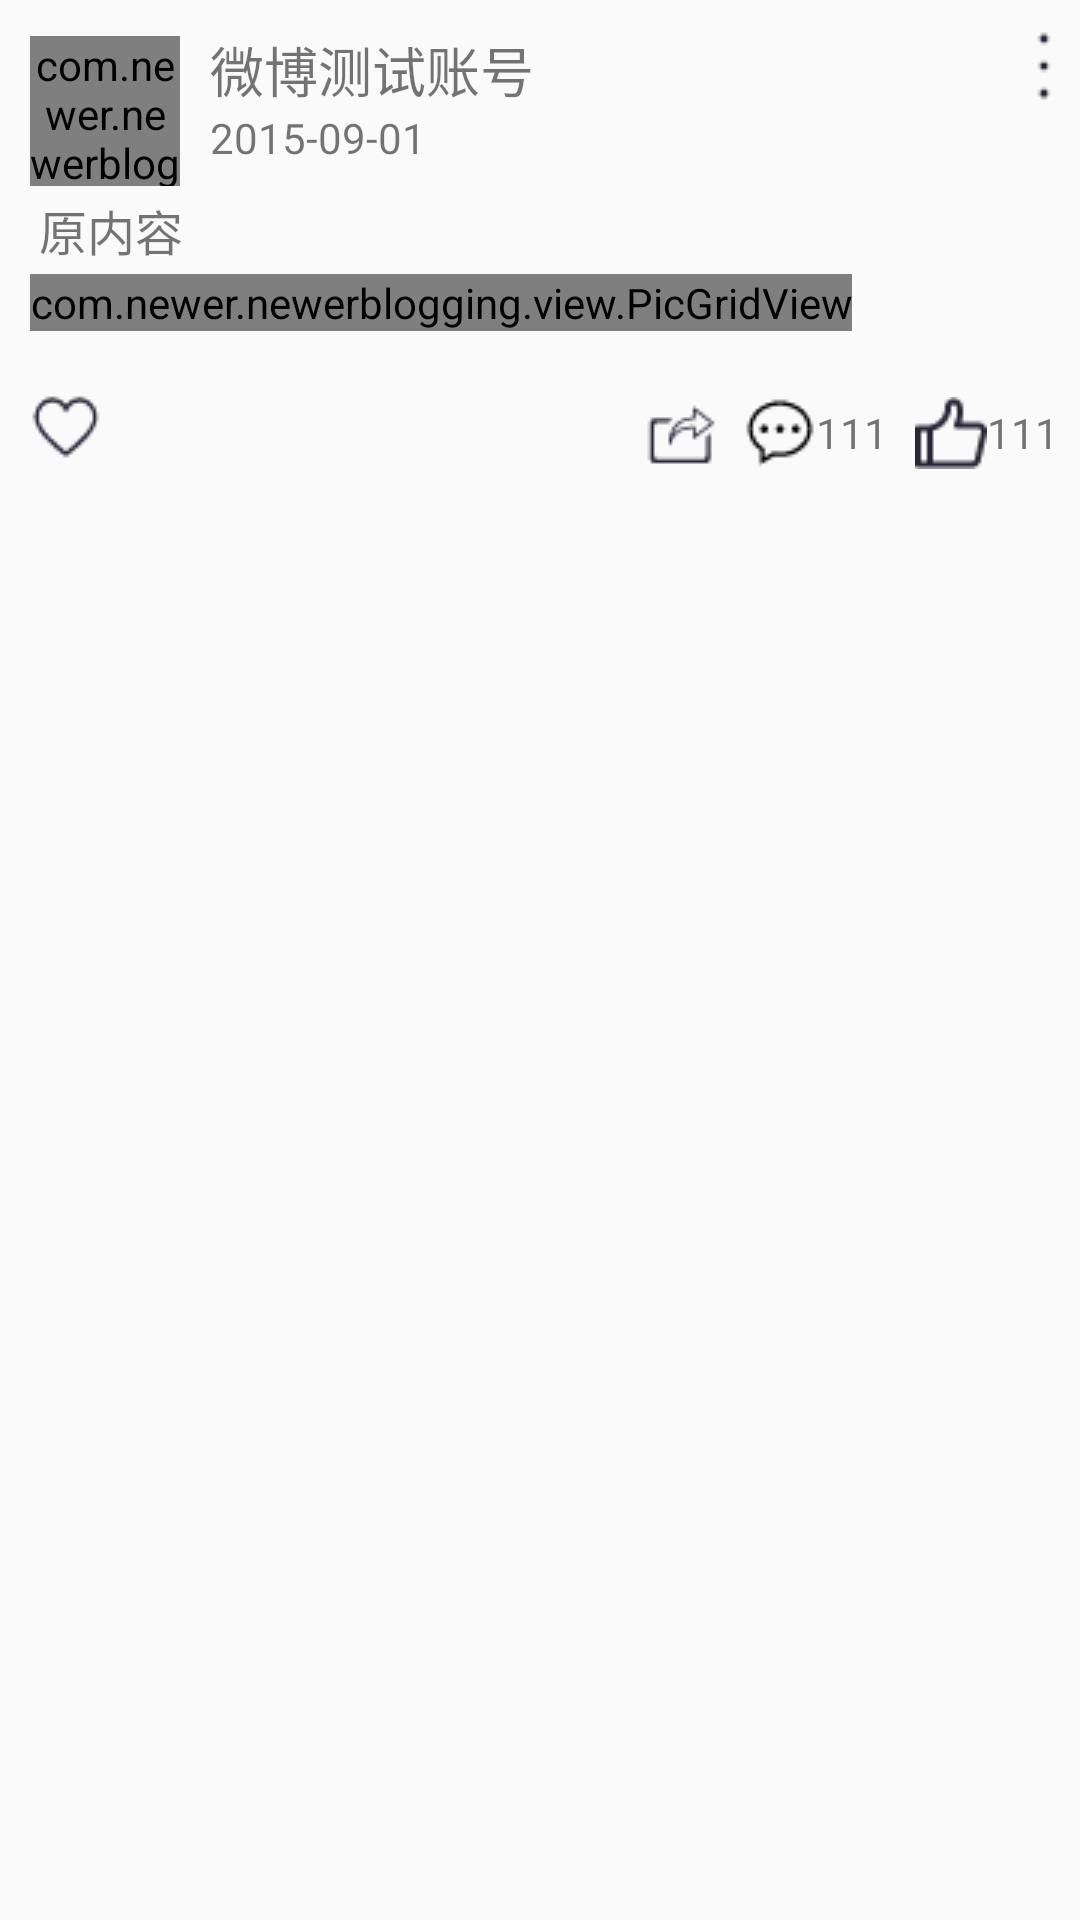

Locate icon controls on the screen. Image size 1080 × 1920, boxes as BBox(x1, y1, x2, y2).
like cancel: BBox(32, 396, 99, 458)
more: BBox(1038, 32, 1050, 100)
